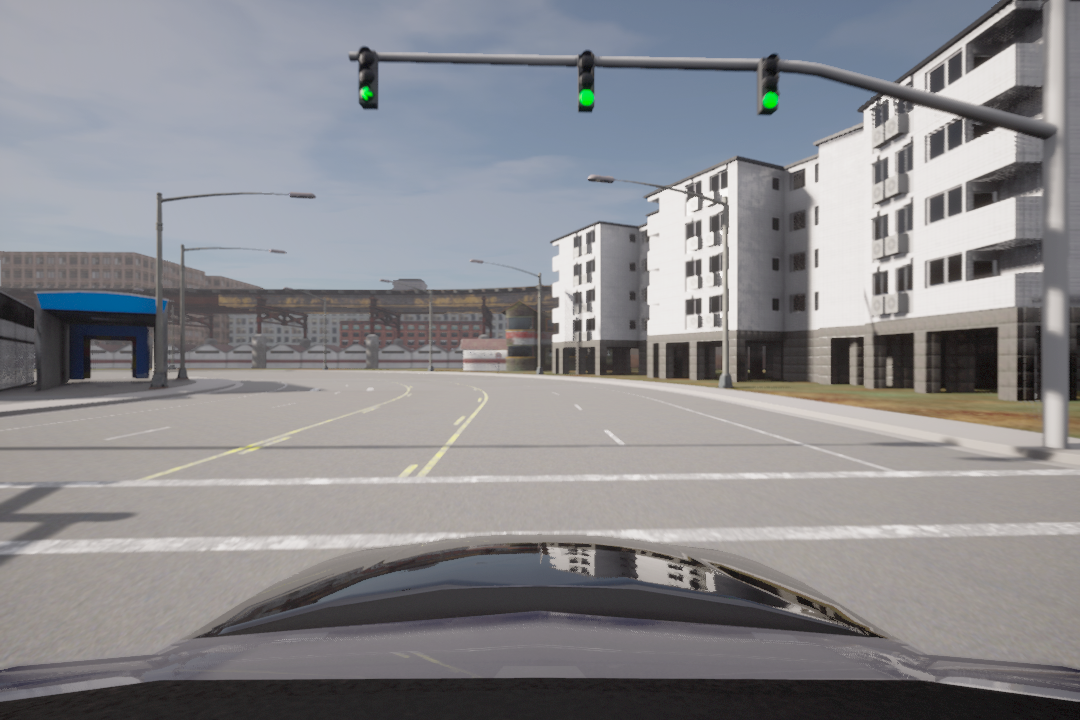TrafficLight: (352, 46, 384, 111), (757, 52, 782, 115), (577, 50, 596, 115)
